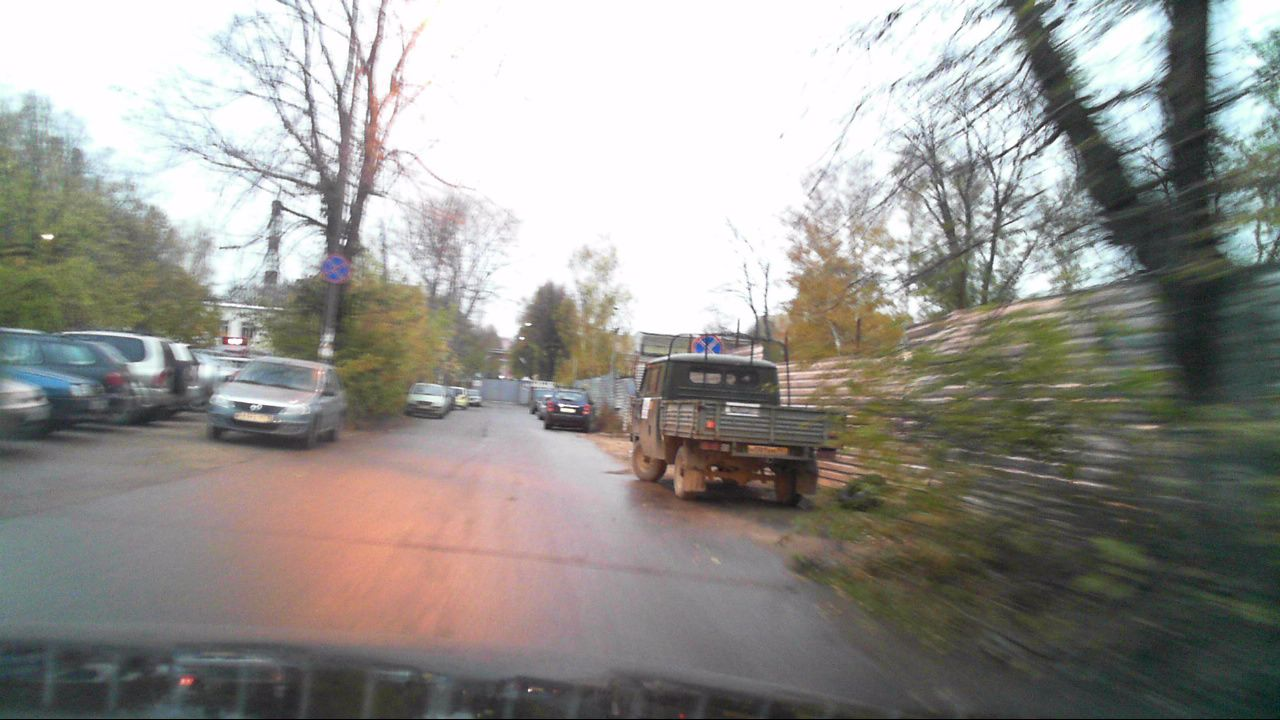No Parking: (689, 334, 721, 364)
